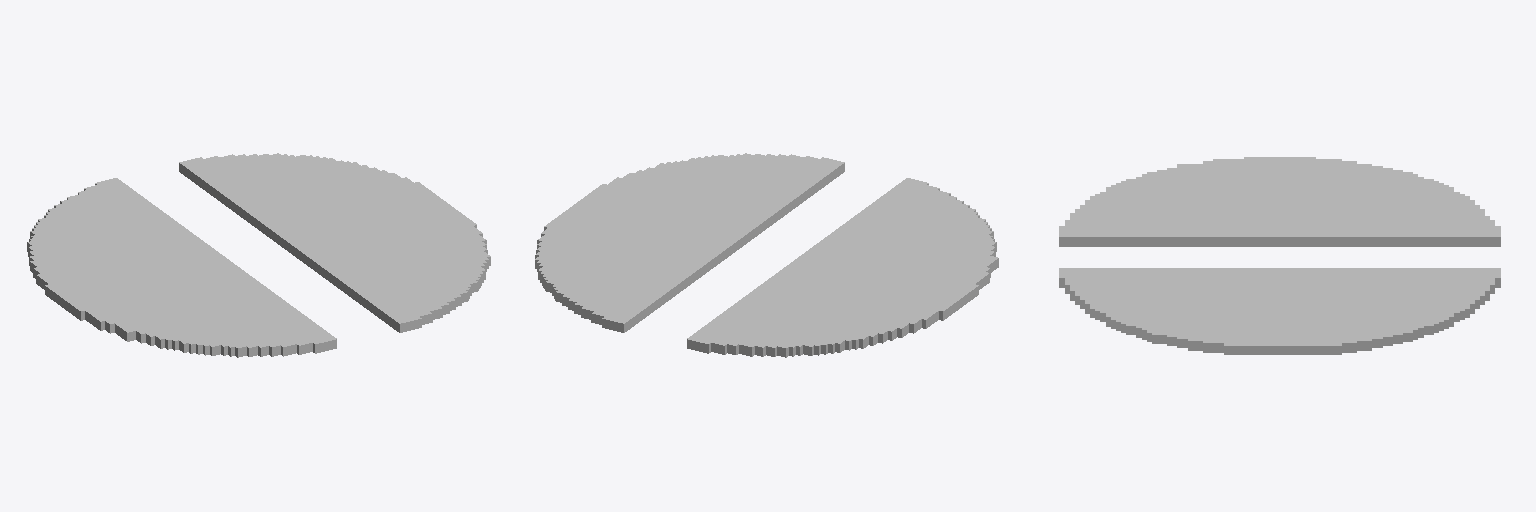
Rendered from 2 лвл-0.obj.
The picture shows the model from 3 angles: view 1: azimuth 30°, elevation 25°; view 2: azimuth 150°, elevation 25°; view 3: azimuth 270°, elevation 25°; orthographic projection.
Visible parts, largest first — view 1: object 1; view 2: object 1; view 3: object 1.
Part boxes in pixels (bbox=[...]): object 1: bbox=[27, 153, 490, 357]; object 1: bbox=[535, 153, 998, 357]; object 1: bbox=[1059, 157, 1500, 354].
Size of the model in its own units: 8.7 by 0.2 by 8.6.